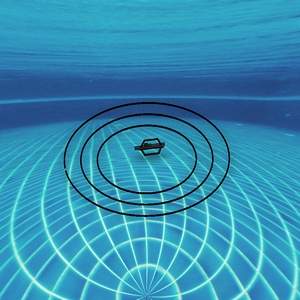circle: (61, 88, 251, 224)
submarine: (136, 139, 166, 152)
